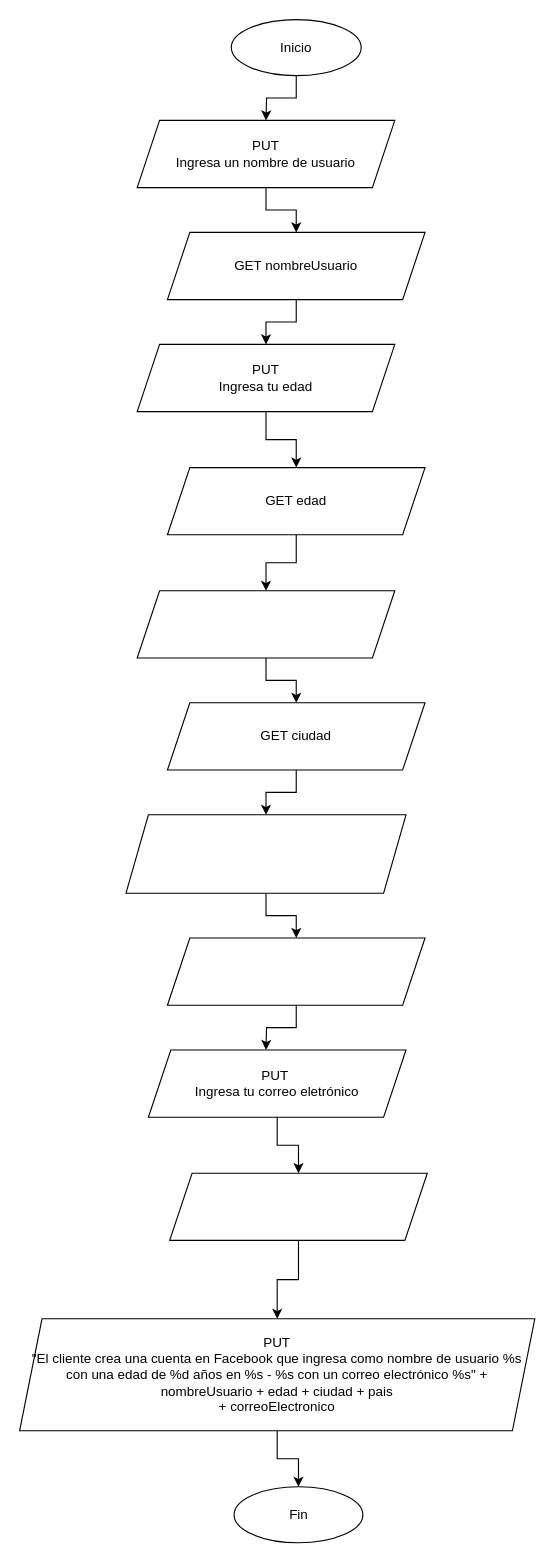
Image size: 554x1562. Some labels were removed from this diagram. Here are the shapes that lost their labels. From the top down, the centre of each, then its label:
the point at 265,624: PUT Ingresa la ciudad en donde resides
the point at 265,853: PUT Ingresa el país en la que se encuentra la ciudad
the point at 295,971: GET país
the point at 298,1206: GET correoElectronico
